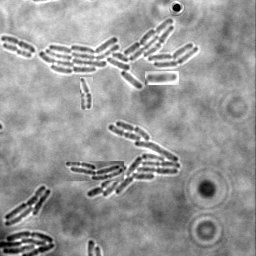Dividing: (1, 34, 37, 52), (3, 41, 33, 57), (145, 71, 179, 85), (80, 77, 93, 110)
Microcolony: (40, 18, 199, 89), (87, 120, 181, 197), (5, 184, 52, 226), (1, 230, 56, 255), (65, 161, 124, 181)
